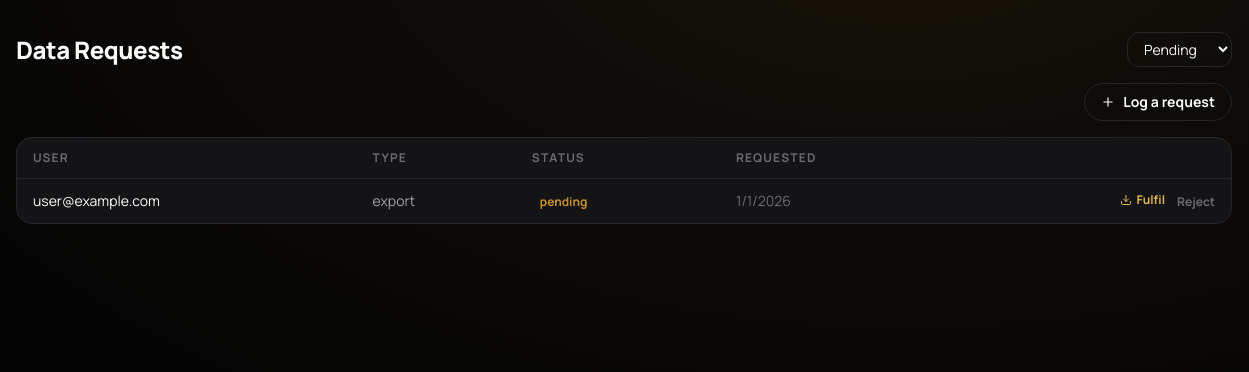
Test case: DataRequests (admin) › logging a request that arrived outside the app › shows an error and keeps the form open when logging fails
Expected: the table with test id "admin-datarequests-table" is shown, [17,138,1231,223]
Click the button with test id "admin-datarequests-log-toggle-btn": (1158, 102) [1084,83,1232,121]
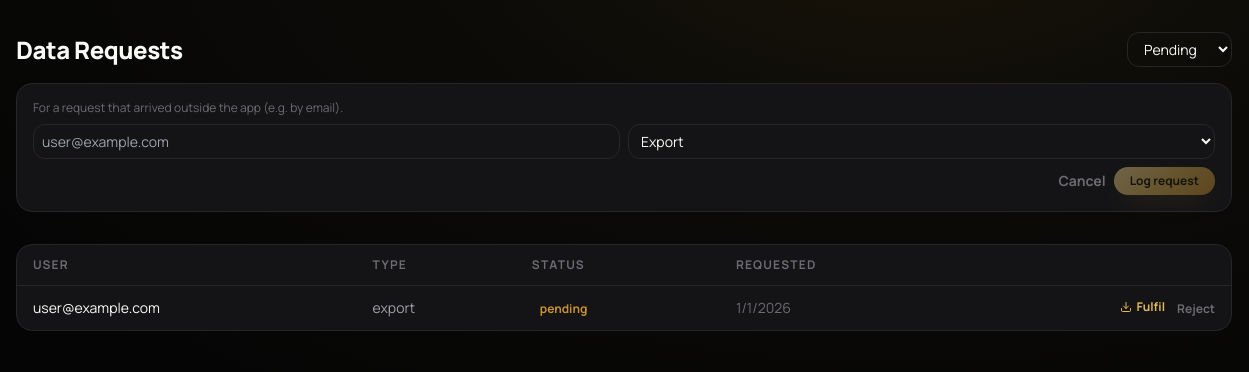
In the field with test id "admin-datarequests-log-email-input": (326, 142) [33,124,620,159], type "nobody@example.com"
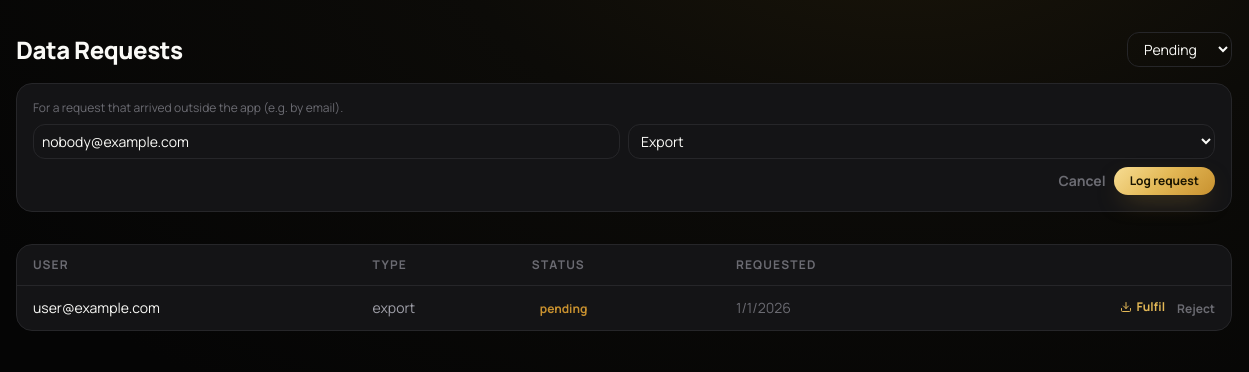
Click the button with test id "admin-datarequests-log-submit-btn": (1164, 181) [1114,167,1215,195]
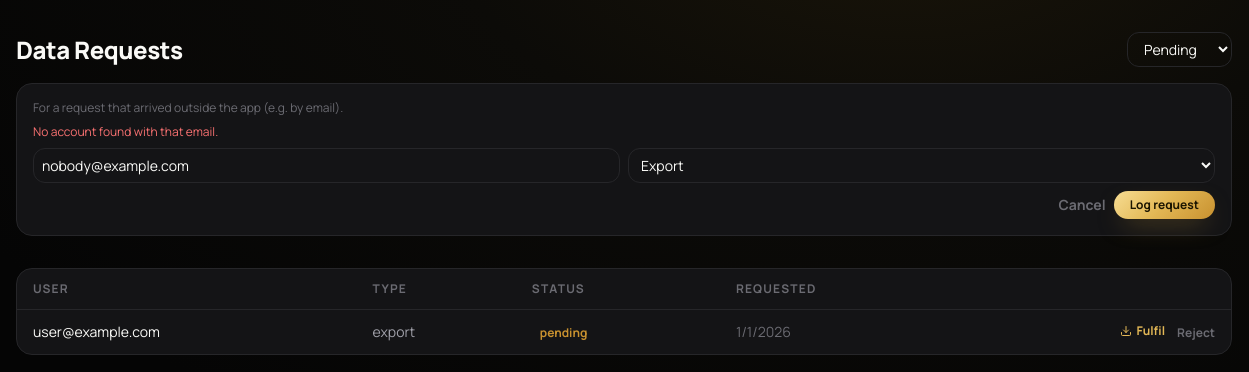
Now the text "No account found with that email." is shown, box [33,123,218,140]
